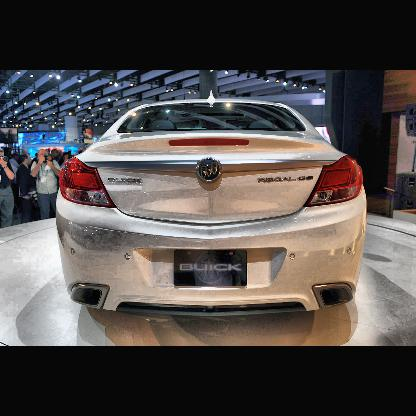Buick Regal GS 2012: (57, 96, 367, 320)
